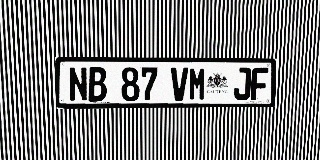7: (140, 67, 158, 101)
8: (121, 67, 139, 101)
B: (88, 67, 107, 101)
F: (251, 68, 268, 100)
J: (233, 67, 251, 100)
M: (189, 67, 206, 101)
N: (68, 67, 88, 102)
V: (171, 67, 188, 101)
